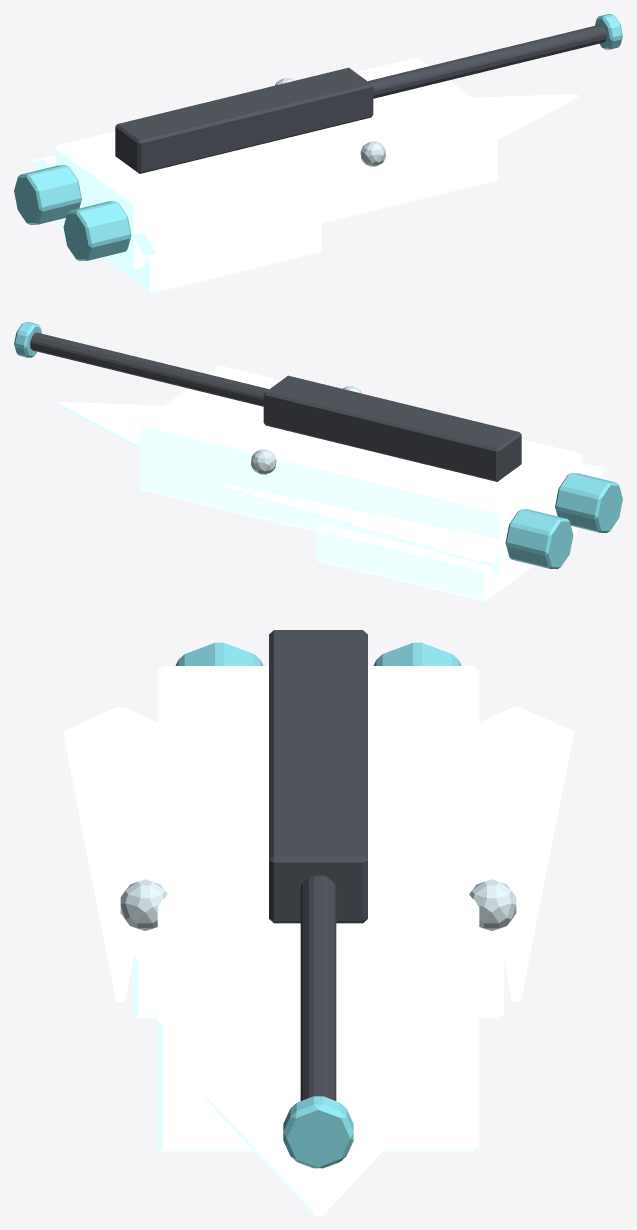
Rendered from SM_Wayward.fbx.
3 renders of one model, top to bottom at view 1: azimuth 30°, elevation 25°; view 2: azimuth 150°, elevation 25°; view 3: azimuth 270°, elevation 25°, orthographic. The views are drawn at different scales.
Parts seen in each view (by area): view 1: SM_Wayward; view 2: SM_Wayward; view 3: SM_Wayward.
Part boxes in pixels (x1=…): SM_Wayward: x1=14, y1=14, x2=622, y2=293; SM_Wayward: x1=14, y1=322, x2=622, y2=601; SM_Wayward: x1=63, y1=630, x2=573, y2=1215.
Bounding box in the file's own units: 105 × 22 × 41.22.
